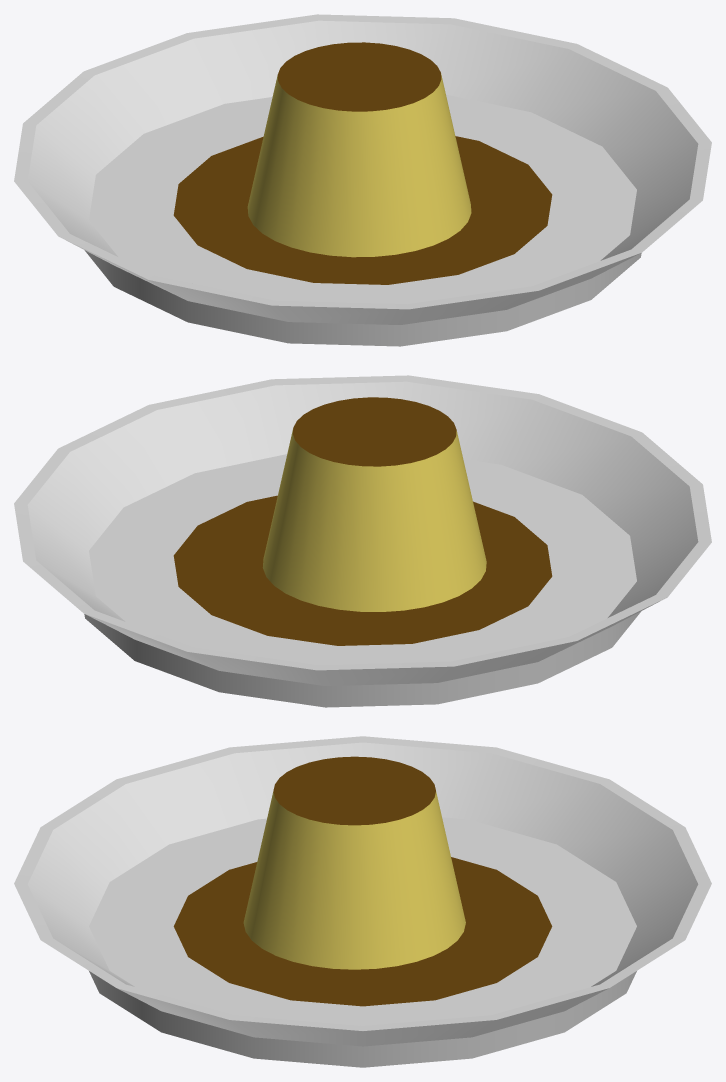
Rendered from Flan.fbx.
3 views of the same model, one above another, from view 1: azimuth 30°, elevation 25°; view 2: azimuth 150°, elevation 25°; view 3: azimuth 270°, elevation 25° (orthographic).
Parts seen in each view (by area): view 1: Cylinder.001; view 2: Cylinder.001; view 3: Cylinder.001.
Boxes of the visible parts, x1,y1,x2,y2 form: Cylinder.001: [14, 14, 711, 346]; Cylinder.001: [14, 375, 711, 707]; Cylinder.001: [14, 736, 711, 1067].
Size of the model in its own units: 238 by 57.4 by 238.
